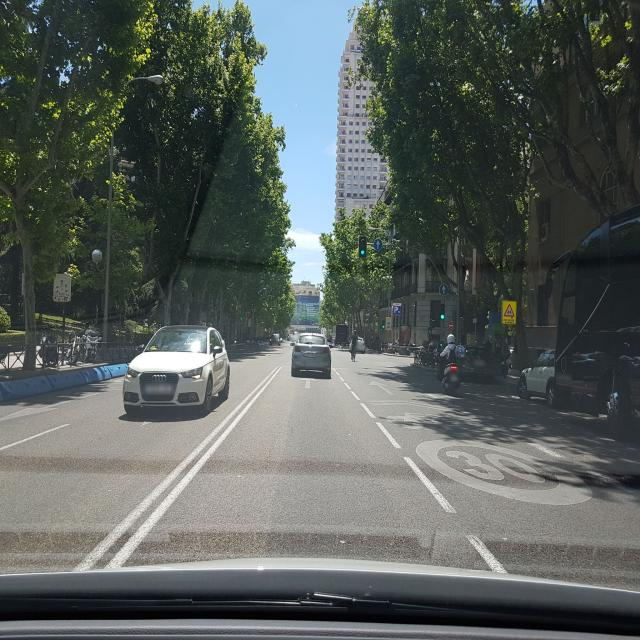bike: (438, 353, 459, 392)
car: (122, 324, 230, 417), (517, 348, 556, 404), (290, 331, 332, 379), (449, 344, 495, 385), (271, 332, 281, 345)
